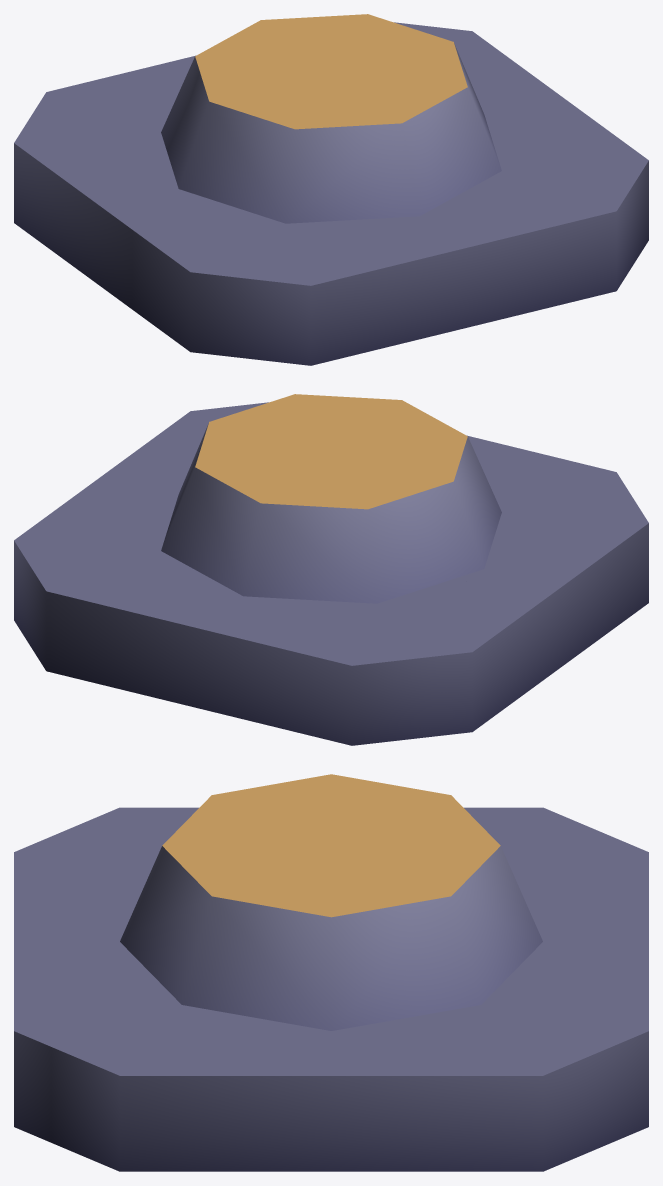
File: button-floor-round-small.glb
3 renders of one model, top to bottom at view 1: azimuth 30°, elevation 25°; view 2: azimuth 150°, elevation 25°; view 3: azimuth 270°, elevation 25°, orthographic. The views are drawn at different scales.
Parts seen in each view (by area): view 1: button-floor-round-small, button; view 2: button-floor-round-small, button; view 3: button-floor-round-small, button.
Part boxes in pixels (x1,y1,x2,y2): button-floor-round-small: [14, 22, 648, 365]; button: [161, 14, 501, 223]; button-floor-round-small: [14, 402, 648, 745]; button: [161, 394, 501, 603]; button-floor-round-small: [14, 807, 648, 1171]; button: [120, 774, 542, 1030].
Size of the model in its own units: 0.3 by 0.1 by 0.3.
